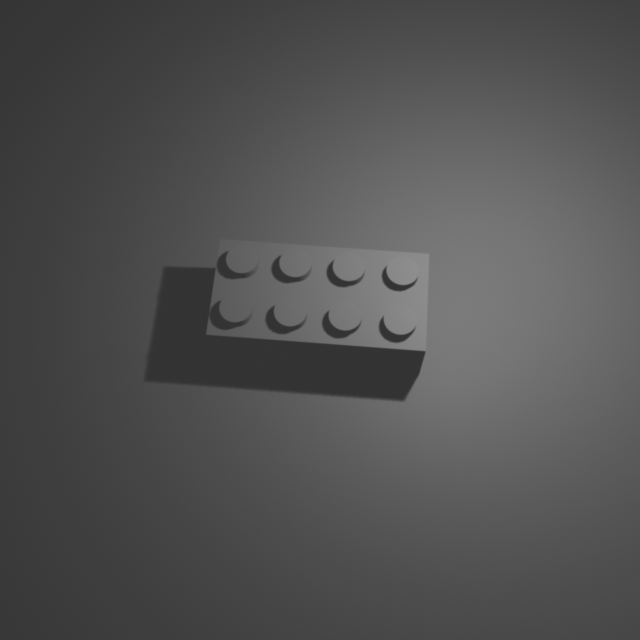lego_2x4: (205, 234, 430, 375)
